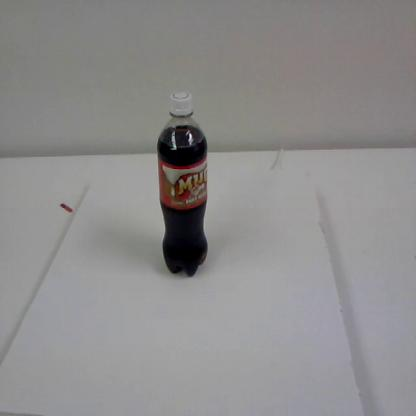bottle: (156, 88, 209, 280)
